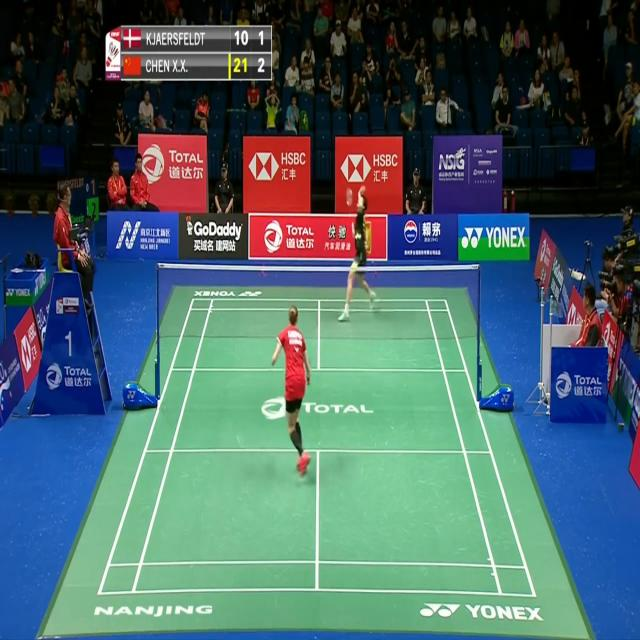Player1: (268, 298, 320, 498)
Player2: (338, 180, 382, 338)
